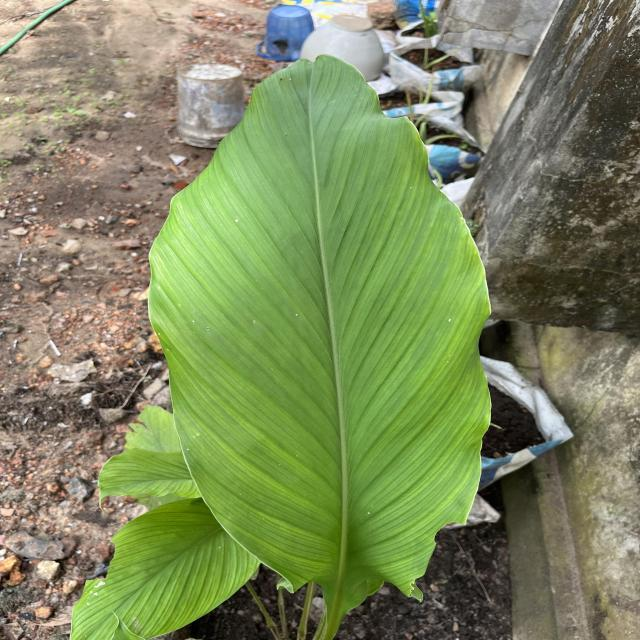Curcuma longa: (145, 52, 496, 602)
